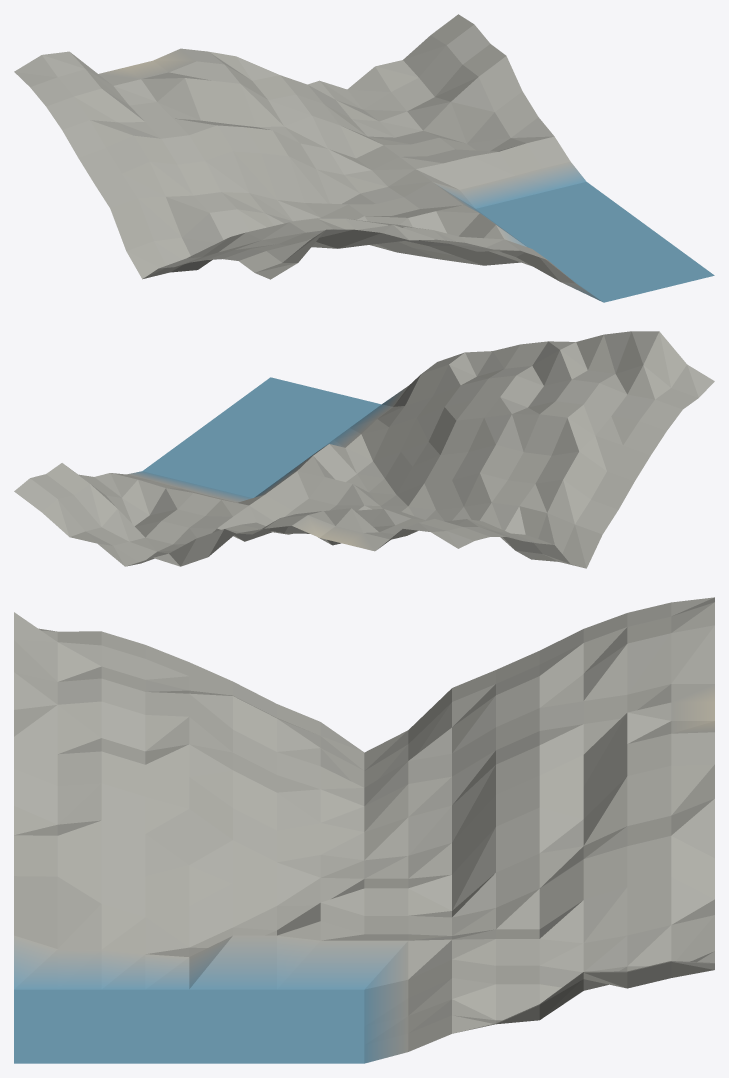
3 views of the same model, one above another, from view 1: azimuth 30°, elevation 25°; view 2: azimuth 150°, elevation 25°; view 3: azimuth 270°, elevation 25° (orthographic). The views are drawn at different scales.
Bounding box in the file's own units: 32 × 9.69 × 32.
